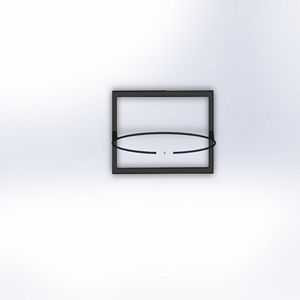circle: (109, 87, 216, 174)
